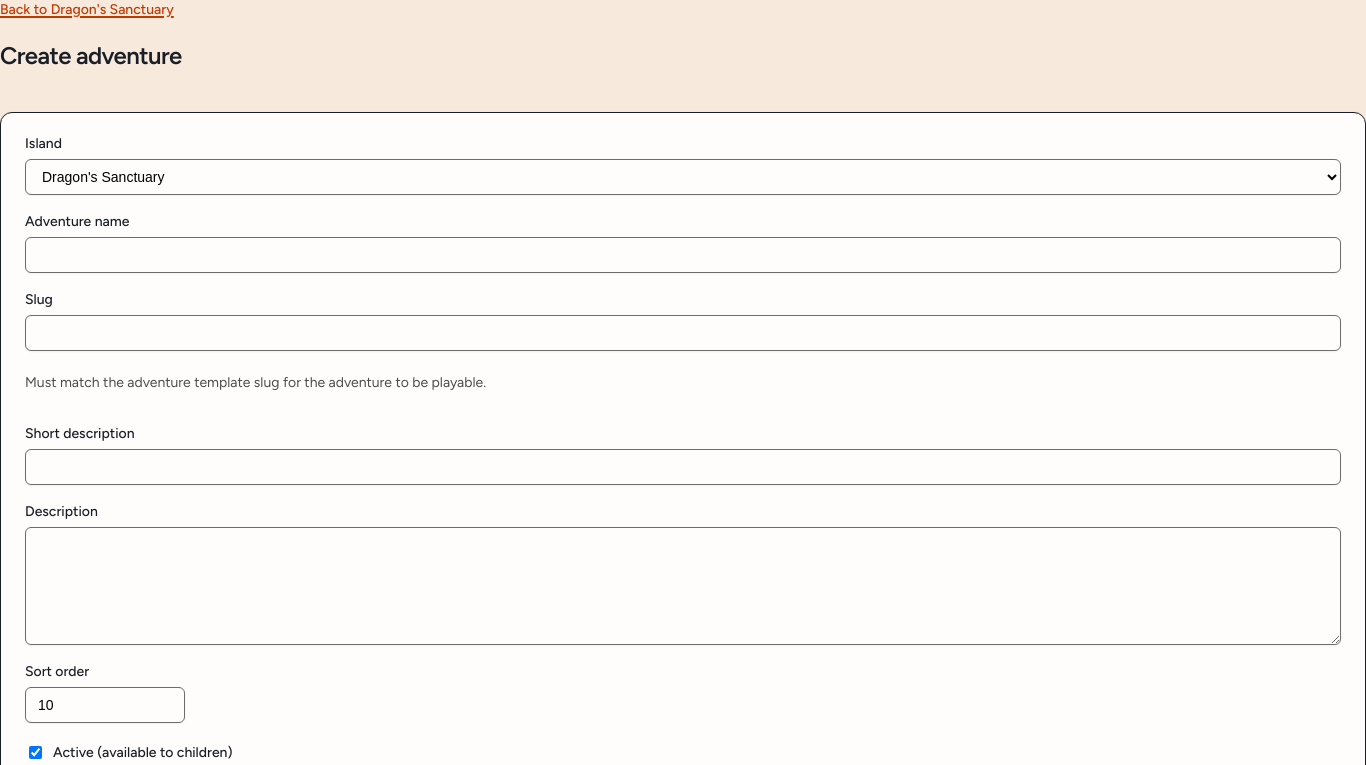
Test: AdminAdventureForm from an island › preselects the island and creates the adventure under it
Expected: the dropdown labelled "Island" shows "Dragon's Sanctuary", x1=25 y1=159 x2=1341 y2=195
Type "Flight School" into the field labelled "Adventure name".
click(683, 255); type("Flight School")  # box x1=25 y1=237 x2=1341 y2=273
(page scrolled)
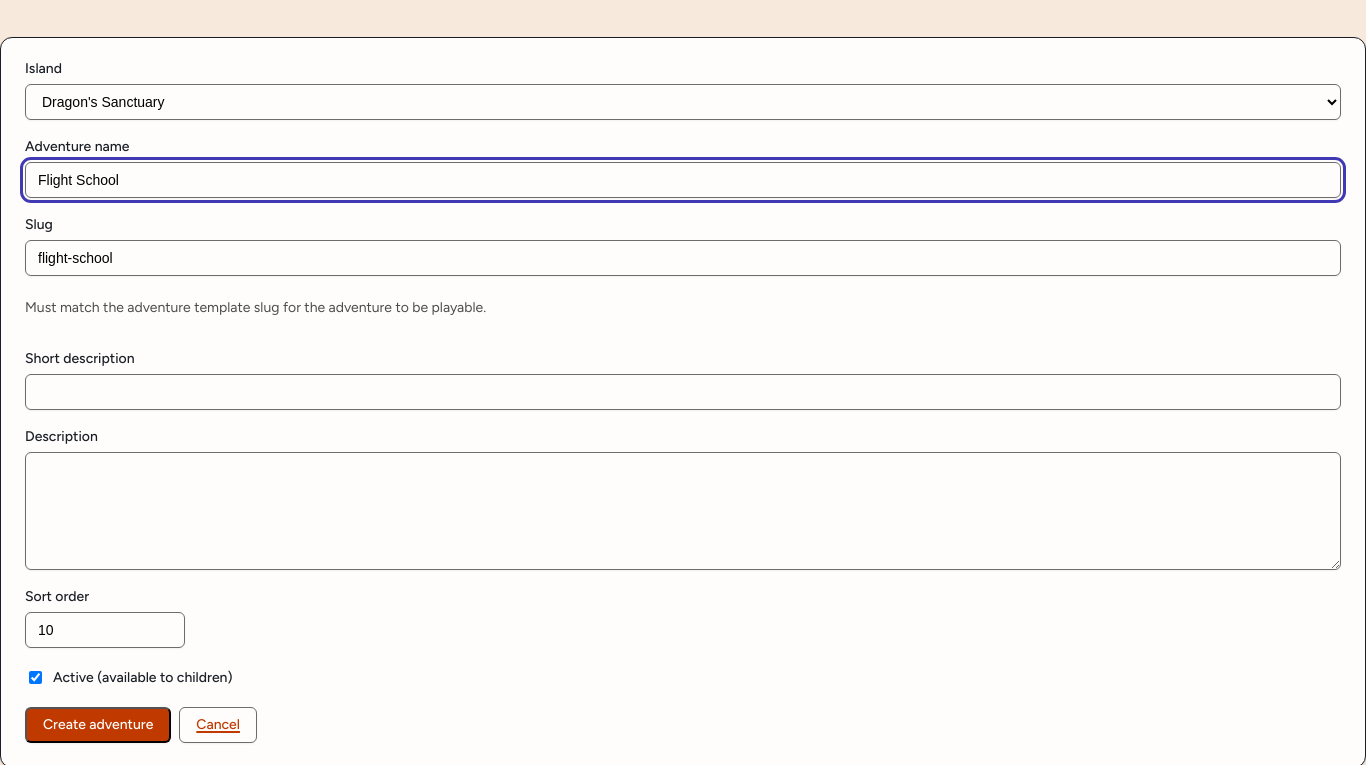
Click the button "Create adventure".
click(98, 725)  # box x1=25 y1=707 x2=171 y2=743
(page scrolled)
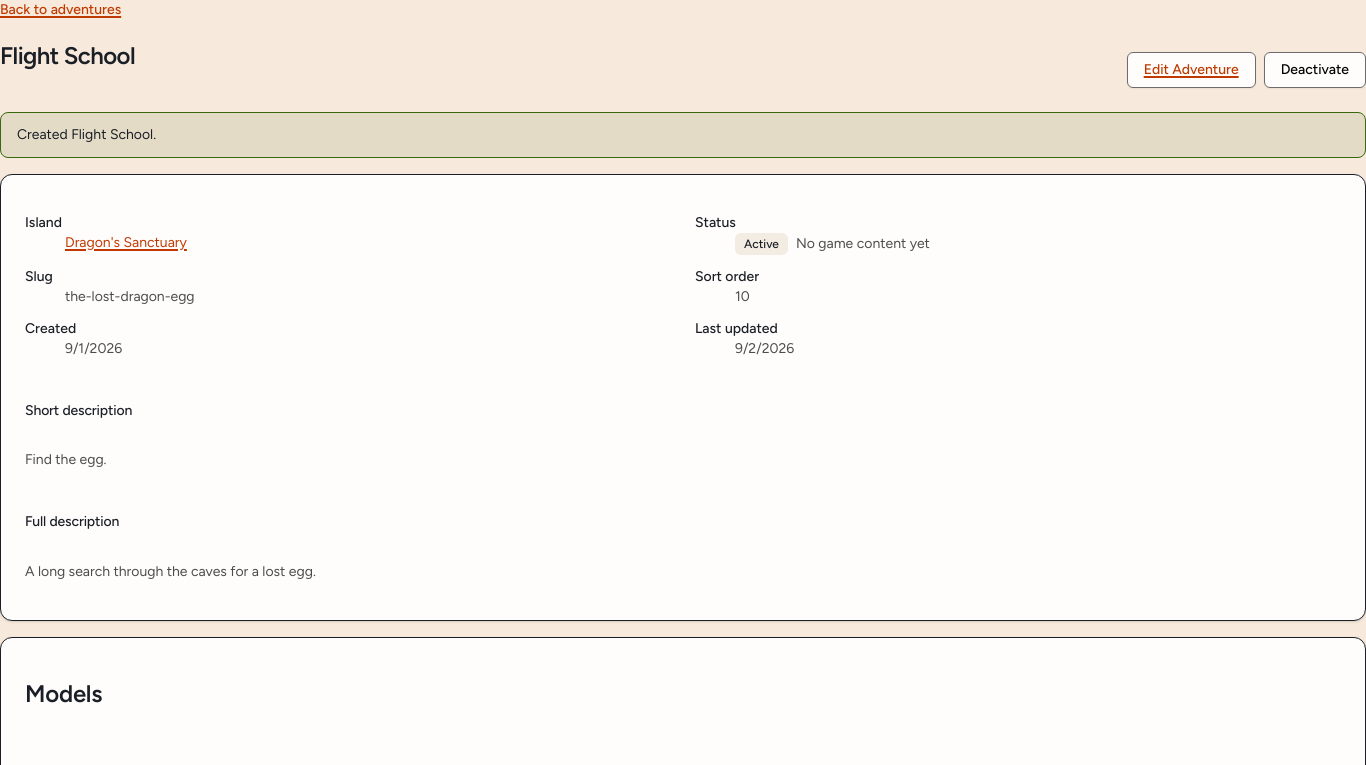
Now the message reads "Created Flight School.", box x1=17 y1=126 x2=156 y2=143
